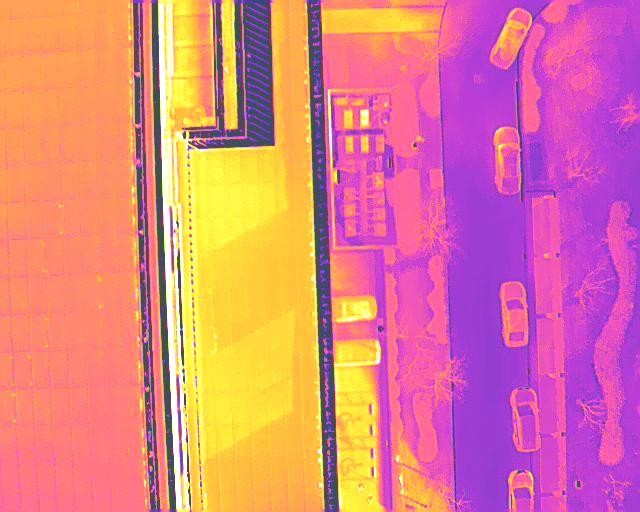Cell-Multi: (30, 313, 50, 352), (14, 351, 33, 391), (113, 11, 132, 50), (115, 160, 134, 198), (127, 460, 146, 497), (113, 48, 132, 85), (28, 240, 47, 277), (85, 274, 104, 311), (116, 197, 135, 232), (46, 201, 63, 238), (122, 311, 139, 346)
No-Anomaly: (41, 53, 63, 92), (5, 128, 26, 168), (95, 11, 117, 49), (78, 84, 98, 125), (7, 201, 27, 241), (90, 423, 110, 463), (42, 123, 61, 165), (86, 348, 107, 386), (61, 125, 81, 164), (79, 11, 99, 50), (59, 14, 79, 53), (23, 16, 43, 55), (5, 18, 25, 57), (109, 424, 129, 463), (98, 160, 119, 197), (40, 16, 61, 53), (59, 50, 78, 90), (63, 198, 82, 238), (68, 312, 88, 350), (105, 348, 125, 386), (89, 385, 109, 423), (73, 424, 92, 464), (19, 462, 40, 498), (25, 127, 44, 166), (101, 234, 120, 273), (103, 272, 122, 311), (38, 461, 58, 498), (7, 165, 27, 202), (1, 463, 22, 498), (7, 91, 26, 129), (4, 54, 23, 92), (25, 165, 44, 203), (83, 197, 102, 235), (64, 236, 83, 274), (96, 124, 116, 160), (77, 50, 97, 86), (83, 235, 101, 275), (10, 240, 30, 276), (10, 279, 30, 315), (70, 387, 90, 423), (18, 424, 36, 464), (30, 277, 49, 314), (12, 315, 31, 352), (60, 86, 78, 125), (62, 163, 80, 202), (28, 200, 46, 239), (92, 461, 112, 496), (110, 463, 130, 498), (95, 85, 113, 123), (96, 49, 114, 87), (23, 53, 41, 91), (66, 275, 84, 313), (103, 312, 122, 348), (54, 424, 72, 462), (43, 163, 61, 200), (47, 238, 65, 275), (49, 314, 67, 351), (33, 388, 51, 425), (36, 424, 54, 461), (48, 277, 67, 312), (79, 123, 96, 162), (81, 161, 99, 197), (53, 387, 71, 423), (16, 389, 34, 425), (42, 89, 60, 124), (107, 386, 125, 421), (101, 196, 118, 233), (70, 350, 87, 387), (51, 350, 68, 387), (33, 351, 50, 388), (56, 463, 75, 496), (75, 463, 94, 496), (25, 90, 42, 126), (86, 313, 103, 348), (123, 349, 139, 385), (128, 424, 144, 460)
Unclassified: (113, 83, 133, 121), (118, 234, 137, 274), (125, 385, 144, 424), (120, 273, 138, 310), (116, 124, 134, 160)
